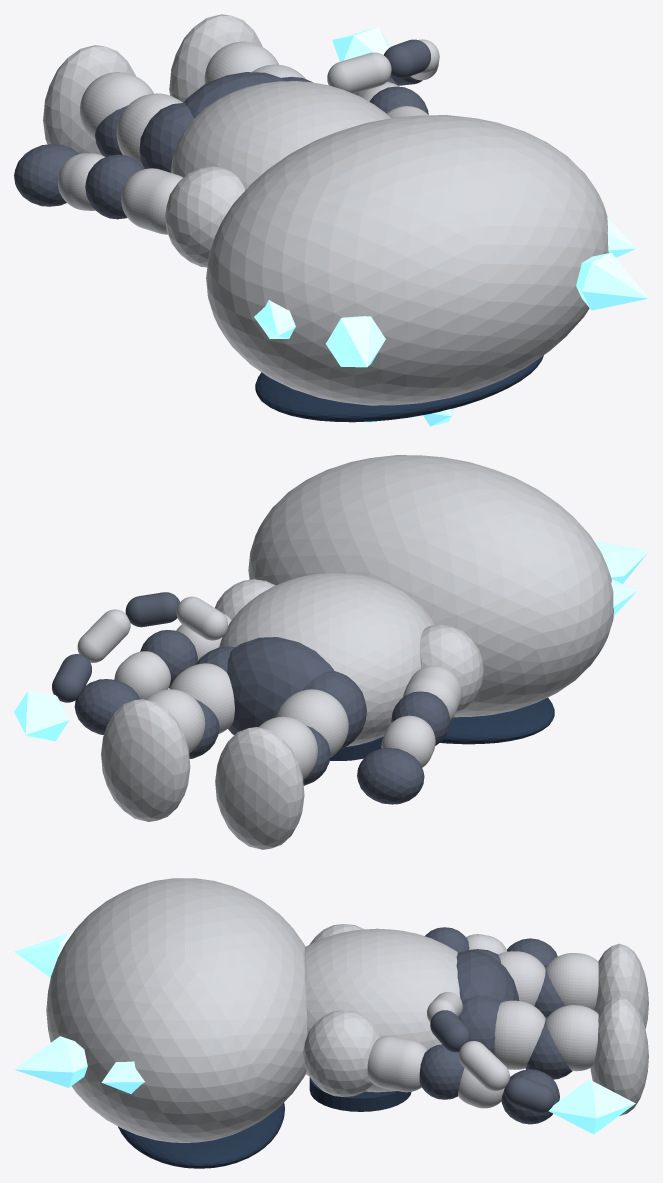
Rendered from byte_mascot_v1.glb.
The picture shows the model from 3 angles, top to bottom: view 1: azimuth 30°, elevation 25°; view 2: azimuth 150°, elevation 25°; view 3: azimuth 270°, elevation 25°; orthographic projection. The views are drawn at different scales.
Parts seen in each view (by area): view 1: ByteHead, ByteTorso, ByteShoulderLeft, ByteFace, ByteFootLeft, ByteFootRight, ByteUpperArmLeft, ByteCrystalUpperRight, ByteHandLeft, ByteShinLeft, ByteHipLeft, ByteElbowLeft (+12 smaller); view 2: ByteHead, ByteTorso, ByteFootLeft, ByteFootRight, ByteWaist, ByteShoulderLeft, ByteFace, ByteHandLeft, ByteThighLeft, ByteThighRight, ByteHandRight, ByteCrystalTail (+18 smaller); view 3: ByteHead, ByteTorso, ByteShoulderRight, ByteFootRight, ByteFace, ByteThighRight, ByteFootLeft, ByteUpperArmRight, ByteShinRight, ByteCrystalTail, ByteWaist, ByteShinLeft (+18 smaller).
Part boxes in pixels (x1,y1,x2,y2): ByteHead: (206, 115, 608, 405); ByteTorso: (171, 81, 390, 189); ByteShoulderLeft: (165, 166, 245, 267); ByteFace: (255, 355, 543, 422); ByteFootLeft: (43, 45, 135, 155); ByteFootRight: (169, 14, 262, 102); ByteUpperArmLeft: (121, 168, 183, 234); ByteCrystalUpperRight: (576, 252, 648, 310); ByteHandLeft: (14, 144, 79, 206); ByteShinLeft: (80, 72, 153, 140); ByteHipLeft: (139, 102, 194, 172); ByteElbowLeft: (85, 154, 144, 219); ByteHead: (248, 455, 613, 717); ByteTorso: (219, 572, 434, 746); ByteFootLeft: (215, 727, 304, 849); ByteFootRight: (101, 699, 190, 821); ByteWaist: (227, 637, 334, 735); ByteShoulderLeft: (419, 624, 483, 713); ByteFace: (440, 697, 554, 744); ByteHandLeft: (357, 748, 424, 804); ByteThighLeft: (276, 689, 348, 757); ByteThighRight: (169, 663, 234, 734); ByteHandRight: (74, 679, 139, 734); ByteCrystalTail: (14, 691, 69, 741); ByteHead: (46, 878, 307, 1142); ByteTorso: (304, 928, 460, 1092); ByteShoulderRight: (303, 1010, 381, 1097); ByteFootRight: (590, 996, 648, 1116); ByteFace: (118, 1102, 284, 1168); ByteThighRight: (494, 1000, 545, 1069); ByteFootLeft: (594, 943, 648, 1028); ByteUpperArmRight: (367, 1036, 427, 1092); ByteShinRight: (546, 1005, 598, 1071); ByteCrystalTail: (548, 1079, 635, 1134); ByteWaist: (456, 950, 519, 1001); ByteShinLeft: (546, 953, 598, 1009).
Bounding box in the file's own units: 2.48 × 1.55 × 3.86.
